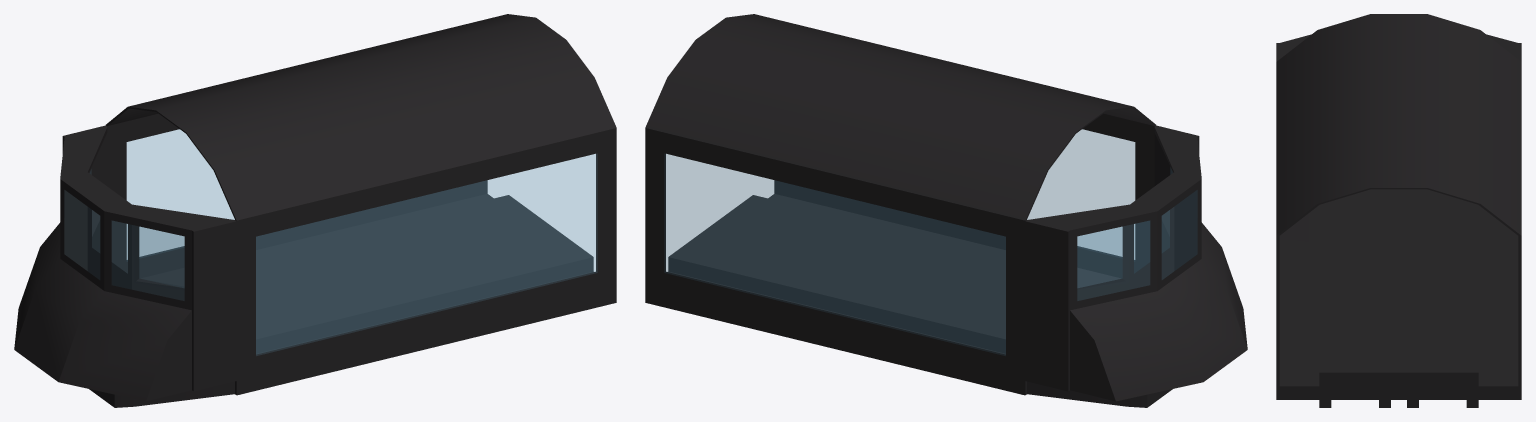
The model's file is Blame_Train.fbx.
3 views of the same model, side by side, from view 1: azimuth 30°, elevation 25°; view 2: azimuth 150°, elevation 25°; view 3: azimuth 270°, elevation 25° (orthographic). The views are drawn at different scales.
Parts seen in each view (by area): view 1: Train; view 2: Train; view 3: Train.
Part boxes in pixels (left/top/right/bottom): Train: left=14, top=14, right=616, bottom=407; Train: left=645, top=14, right=1247, bottom=407; Train: left=1276, top=14, right=1521, bottom=407.
Bounding box in the file's own units: 3360 × 1464 × 1480.
